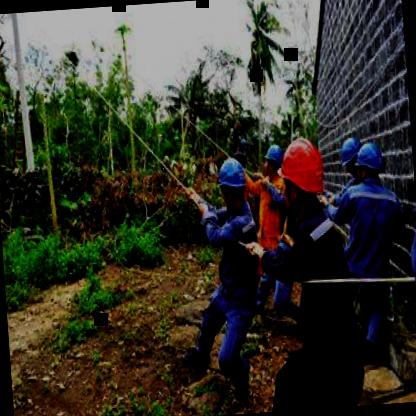helmet: (278, 132, 330, 214), (216, 155, 249, 214), (349, 139, 387, 186), (337, 131, 362, 177), (262, 138, 286, 181)
